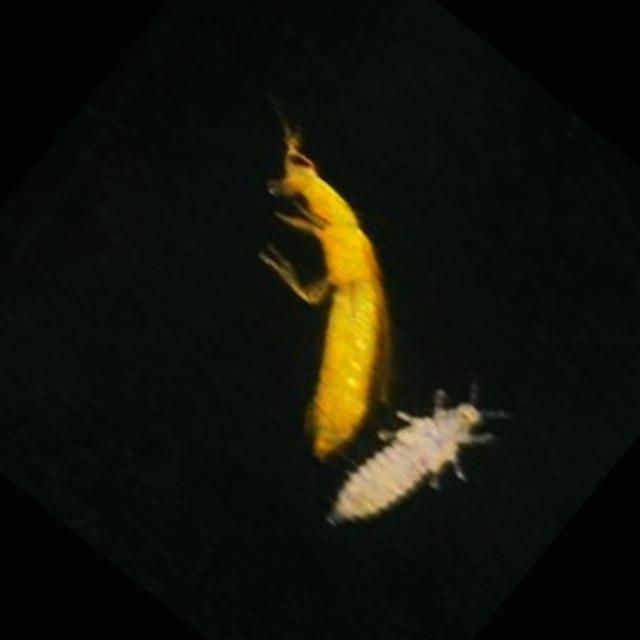melon thrips: (87, 71, 516, 502), (296, 346, 560, 621)
